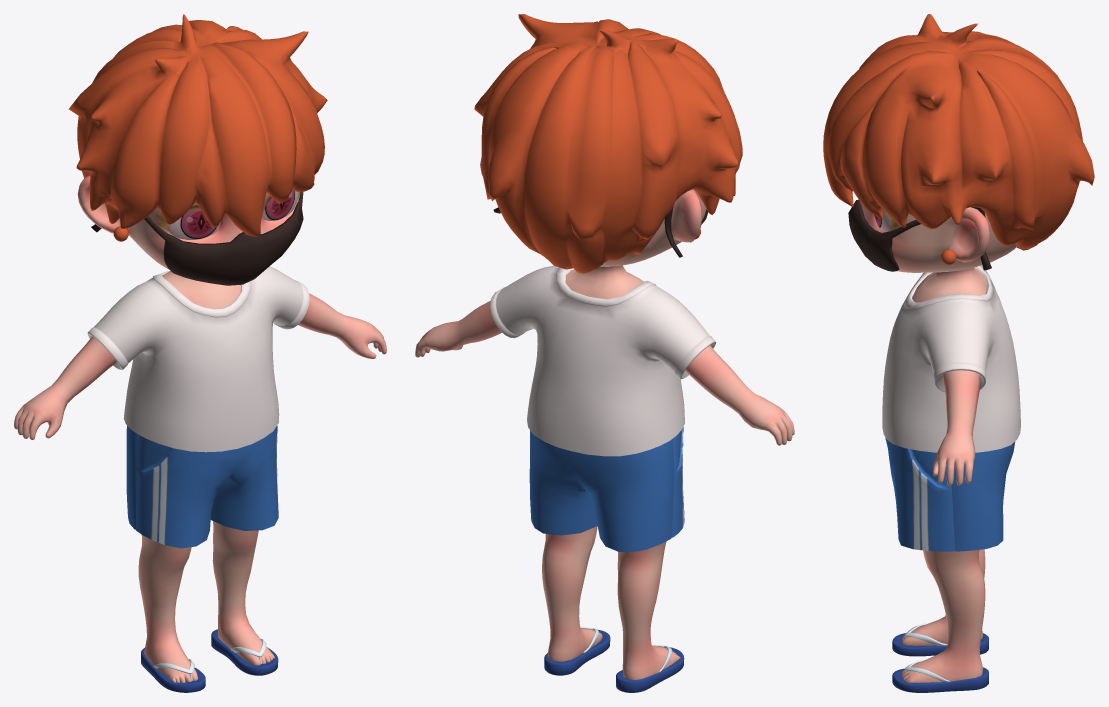
Rendered from m_hair_03.fbx.
3 views of the same model, side by side, from view 1: azimuth 30°, elevation 25°; view 2: azimuth 150°, elevation 25°; view 3: azimuth 270°, elevation 25° (orthographic).
Visible parts, largest first — view 1: m_hair_03, shangbanshen, xiabanshen, head, foot, hand; view 2: m_hair_03, shangbanshen, xiabanshen, foot, hand, head; view 3: m_hair_03, shangbanshen, xiabanshen, head, foot, hand.
Part boxes in pixels (left/top/right/bottom): m_hair_03: left=69, top=14, right=327, bottom=285; shangbanshen: left=51, top=266, right=347, bottom=452; xiabanshen: left=126, top=425, right=278, bottom=646; head: left=77, top=175, right=300, bottom=269; foot: left=141, top=621, right=278, bottom=692; hand: left=14, top=315, right=386, bottom=439; m_hair_03: left=474, top=14, right=742, bottom=273; shangbanshen: left=452, top=265, right=753, bottom=456; xiabanshen: left=529, top=427, right=684, bottom=660; foot: left=544, top=626, right=684, bottom=692; hand: left=415, top=321, right=794, bottom=445; head: left=480, top=157, right=706, bottom=267; m_hair_03: left=823, top=14, right=1094, bottom=271; shangbanshen: left=882, top=265, right=1020, bottom=452; xiabanshen: left=885, top=437, right=1015, bottom=661; head: left=860, top=202, right=1016, bottom=272; foot: left=892, top=616, right=988, bottom=692; hand: left=933, top=429, right=975, bottom=485.
Bounding box in the file's own units: 120 × 203 × 78.08.
